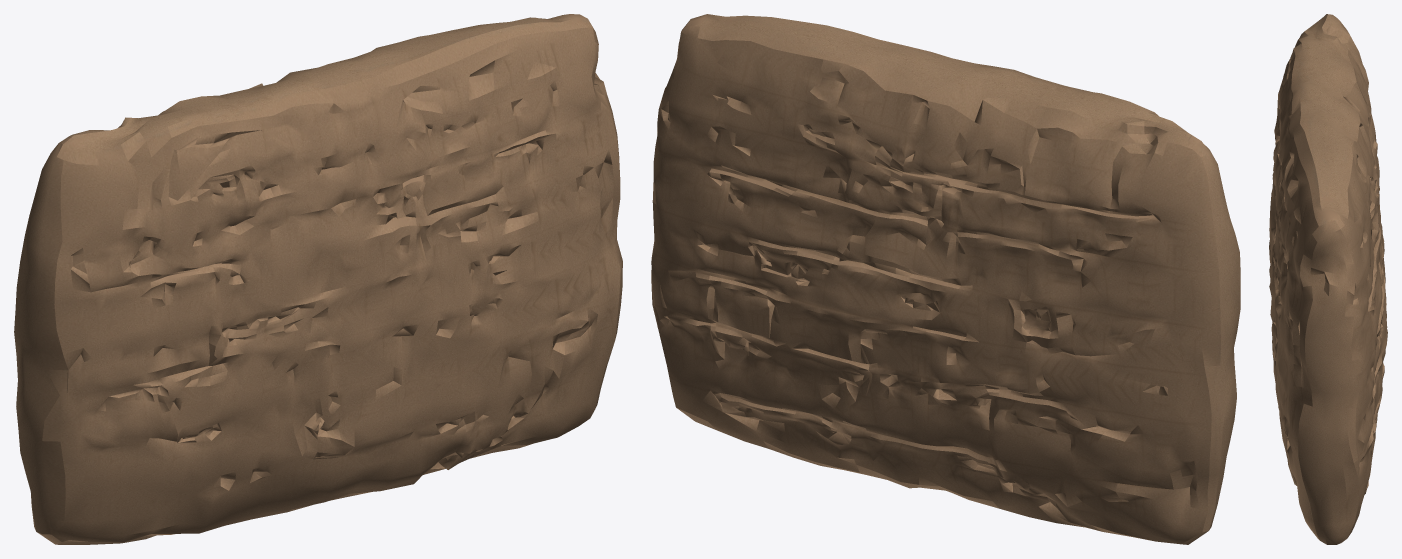
Rendered from behistun.glb.
3 views of the same model, side by side, from view 1: azimuth 30°, elevation 25°; view 2: azimuth 150°, elevation 25°; view 3: azimuth 270°, elevation 25° (orthographic). The views are drawn at different scales.
Parts seen in each view (by area): view 1: Mesh0; view 2: Mesh0; view 3: Mesh0.
Boxes of the visible parts, <box> form: Mesh0: <box>14,14,622,544</box>; Mesh0: <box>651,14,1240,544</box>; Mesh0: <box>1269,14,1387,544</box>.
Bounding box in the file's own units: 1.9 × 1.35 × 0.411.
1 material, 1 textured.
